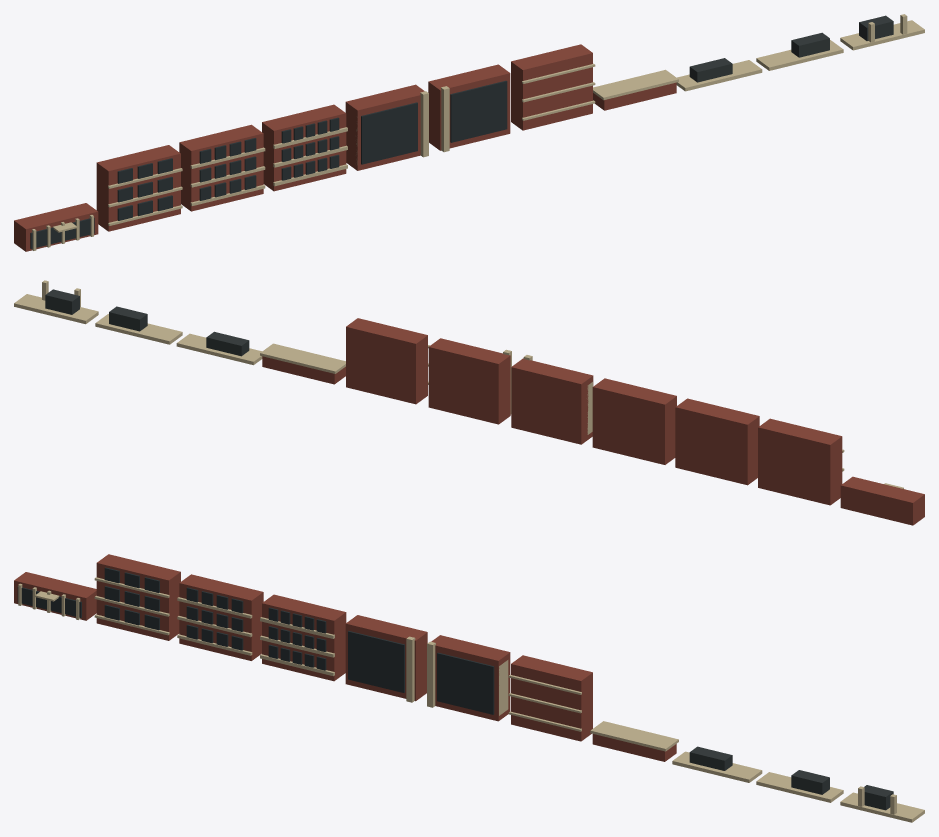
The model's file is chicago-school-masonry.glb.
3 renders of one model, top to bottom at view 1: azimuth 30°, elevation 25°; view 2: azimuth 150°, elevation 25°; view 3: azimuth 330°, elevation 25°, orthographic.
Parts seen in each view (by area): view 1: middle-wall (×3), front-glass (×2), corner-wall (×2), party-wall, cornice (×3), roof-house (×3), base-shell, shoulder-cap, corner-pier (×2), shoulder, recessed-ground-floor; view 2: middle-wall (×3), corner-wall (×2), party-wall, base-shell, cornice (×3), roof-house (×3), shoulder-cap, shoulder; view 3: middle-wall (×3), front-glass (×2), party-wall, corner-wall (×2), cornice (×3), roof-house (×3), base-shell, shoulder-cap, corner-pier (×2), shoulder, recessed-ground-floor.
Part boxes in pixels (x1,y1,x2,y2): middle-wall (×3): [96, 104, 346, 231]; front-glass (×2): [361, 80, 507, 164]; corner-wall (×2): [345, 64, 510, 170]; party-wall: [511, 44, 592, 130]; cornice (×3): [676, 20, 924, 91]; roof-house (×3): [689, 15, 893, 82]; base-shell: [14, 203, 98, 251]; shoulder-cap: [593, 69, 678, 100]; corner-pier (×2): [420, 86, 449, 157]; shoulder: [593, 82, 676, 110]; recessed-ground-floor: [30, 218, 94, 248]; middle-wall (×3): [592, 378, 842, 505]; corner-wall (×2): [428, 338, 593, 444]; party-wall: [346, 318, 427, 404]; base-shell: [840, 476, 924, 525]; cornice (×3): [14, 294, 262, 365]; roof-house (×3): [45, 289, 249, 356]; shoulder-cap: [260, 343, 345, 373]; shoulder: [262, 356, 345, 384]; middle-wall (×3): [96, 554, 346, 681]; front-glass (×2): [348, 631, 494, 714]; party-wall: [511, 655, 592, 741]; corner-wall (×2): [345, 615, 510, 721]; cornice (×3): [672, 751, 924, 822]; roof-house (×3): [689, 746, 893, 810]; base-shell: [14, 572, 96, 620]; shoulder-cap: [590, 721, 678, 751]; corner-pier (×2): [406, 636, 435, 707]; shoulder: [592, 734, 676, 761]; recessed-ground-floor: [17, 586, 81, 617].
Bounding box in the file's own units: 43.49 × 2.9 × 1.53.
